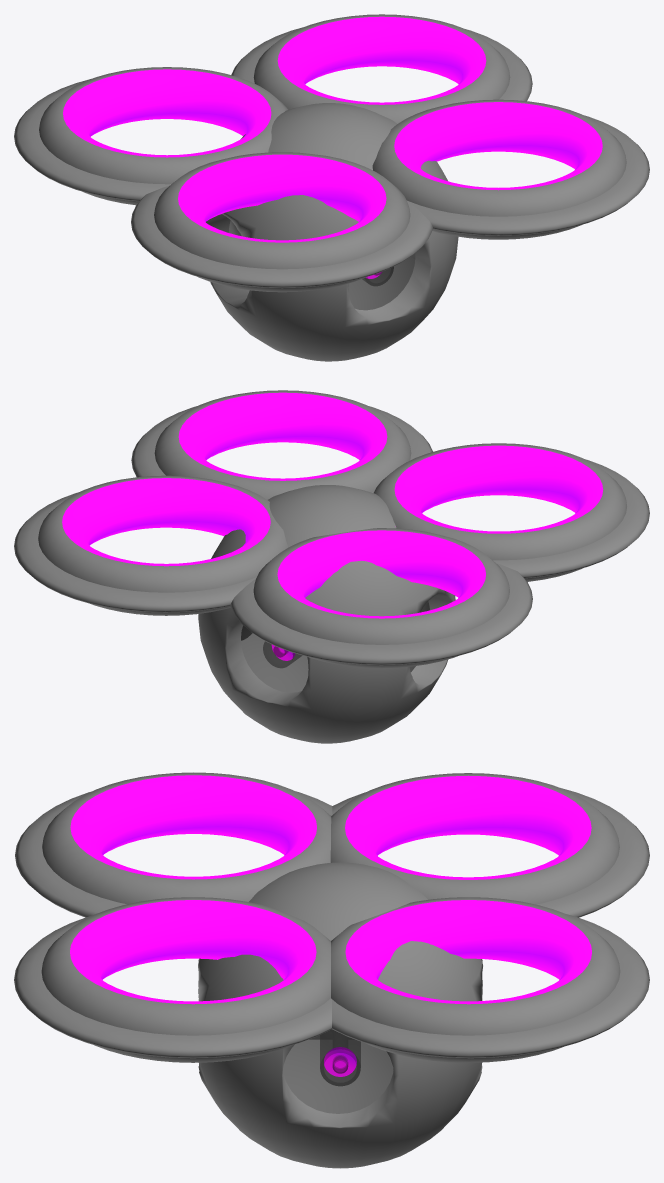
Rendered from drone2.glb.
3 renders of one model, top to bottom at view 1: azimuth 30°, elevation 25°; view 2: azimuth 150°, elevation 25°; view 3: azimuth 270°, elevation 25°, orthographic. The views are drawn at different scales.
Parts seen in each view (by area): view 1: Drone 2; view 2: Drone 2; view 3: Drone 2.
Boxes of the visible parts, x1,y1,x2,y2 form: Drone 2: (14,14,649,361); Drone 2: (14,390,649,743); Drone 2: (14,772,649,1168).
Bounding box in the file's own units: 13.16 × 6.17 × 12.82.
